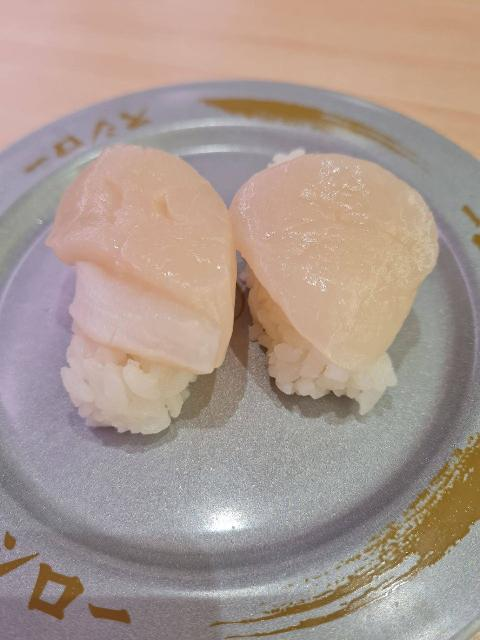janwhite: (0, 74, 480, 631)
